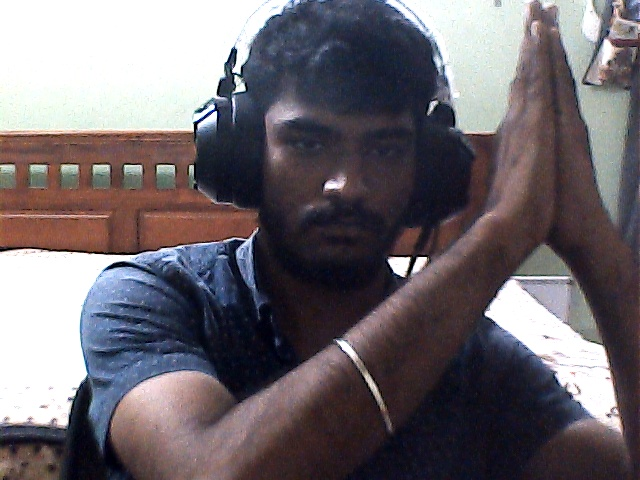Sign: (483, 2, 612, 275)
